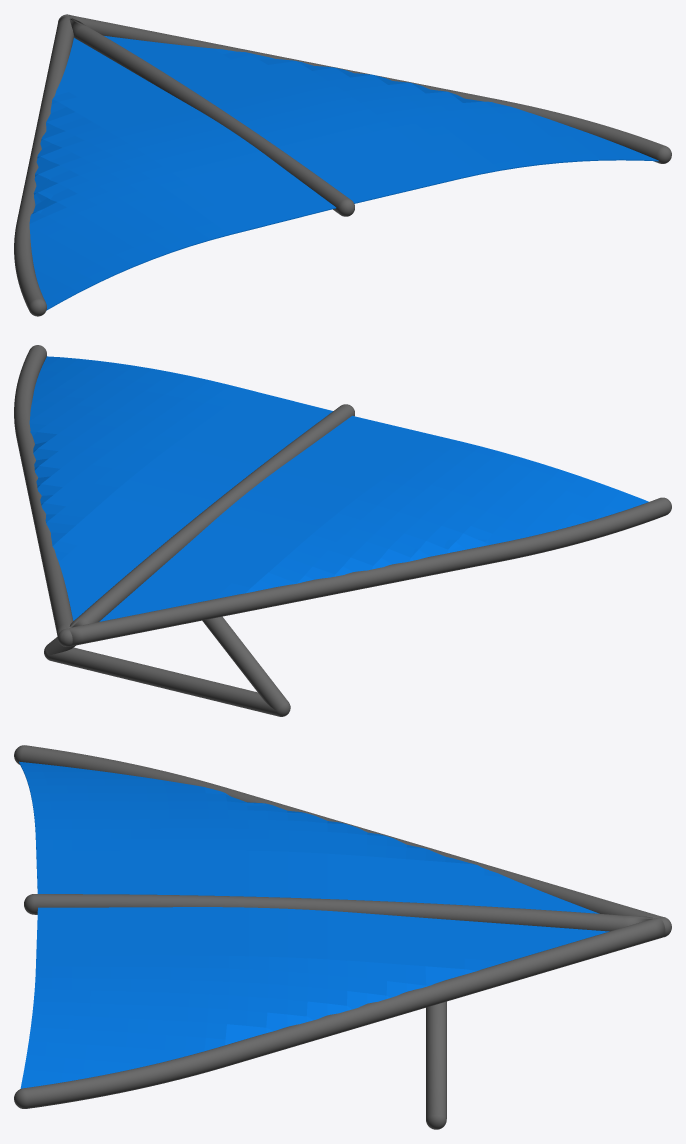
File: Glider.fbx
3 renders of one model, top to bottom at view 1: azimuth 30°, elevation 25°; view 2: azimuth 150°, elevation 25°; view 3: azimuth 270°, elevation 25°, orthographic. The views are drawn at different scales.
Parts seen in each view (by area): view 1: Sail, Sail.001, Born.001; view 2: Sail, Sail.001, Born.001, Basebar; view 3: Sail.001, Sail, Born.001, Basebar.
Part boxes in pixels (bbox=[...]): Sail: bbox=[29, 38, 336, 310]; Sail.001: bbox=[104, 36, 658, 203]; Born.001: bbox=[14, 14, 671, 316]; Sail: bbox=[99, 415, 648, 621]; Sail.001: bbox=[29, 356, 332, 620]; Born.001: bbox=[14, 345, 671, 646]; Basebar: bbox=[44, 616, 290, 716]; Sail.001: bbox=[20, 907, 609, 1088]; Sail: bbox=[19, 761, 599, 913]; Born.001: bbox=[14, 745, 671, 1108]; Basebar: bbox=[426, 1001, 446, 1129].
Bounding box in the file's own units: 7.95 × 1.81 × 6.28.
